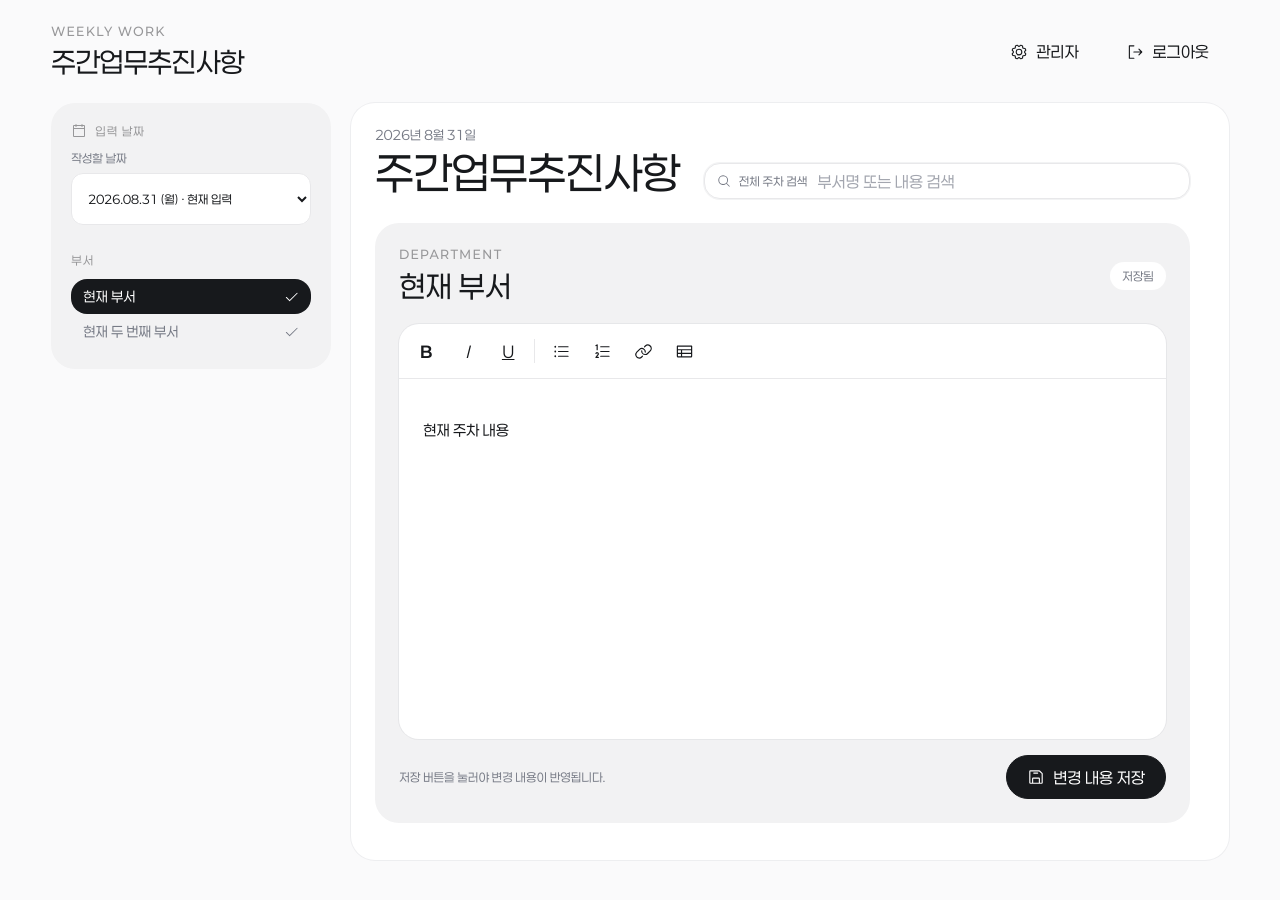
Workspace › Given an archive result contains rich text, when the contributor chooses replace, then sanitized source content replaces the current draft
The width and height of the screenshot is (1280, 900).
In the dropdown labelled "전체 주차 검색": point(996, 181) left=815, top=170, right=1177, bottom=192, type "강조"
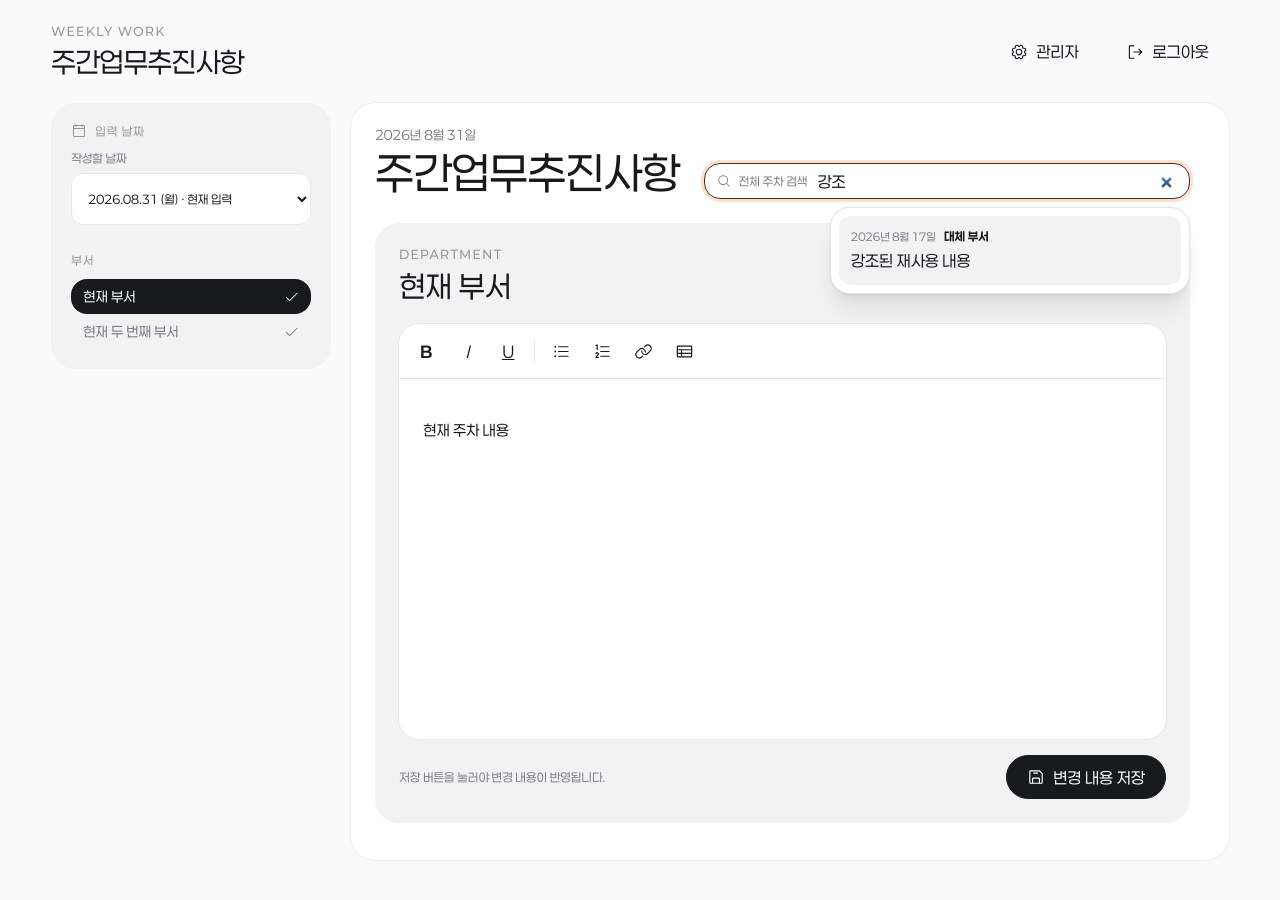
Click the option "2026년 8월 17일 대체 부서 강조된 재사용 내용": point(893, 236) left=839, top=216, right=1181, bottom=285
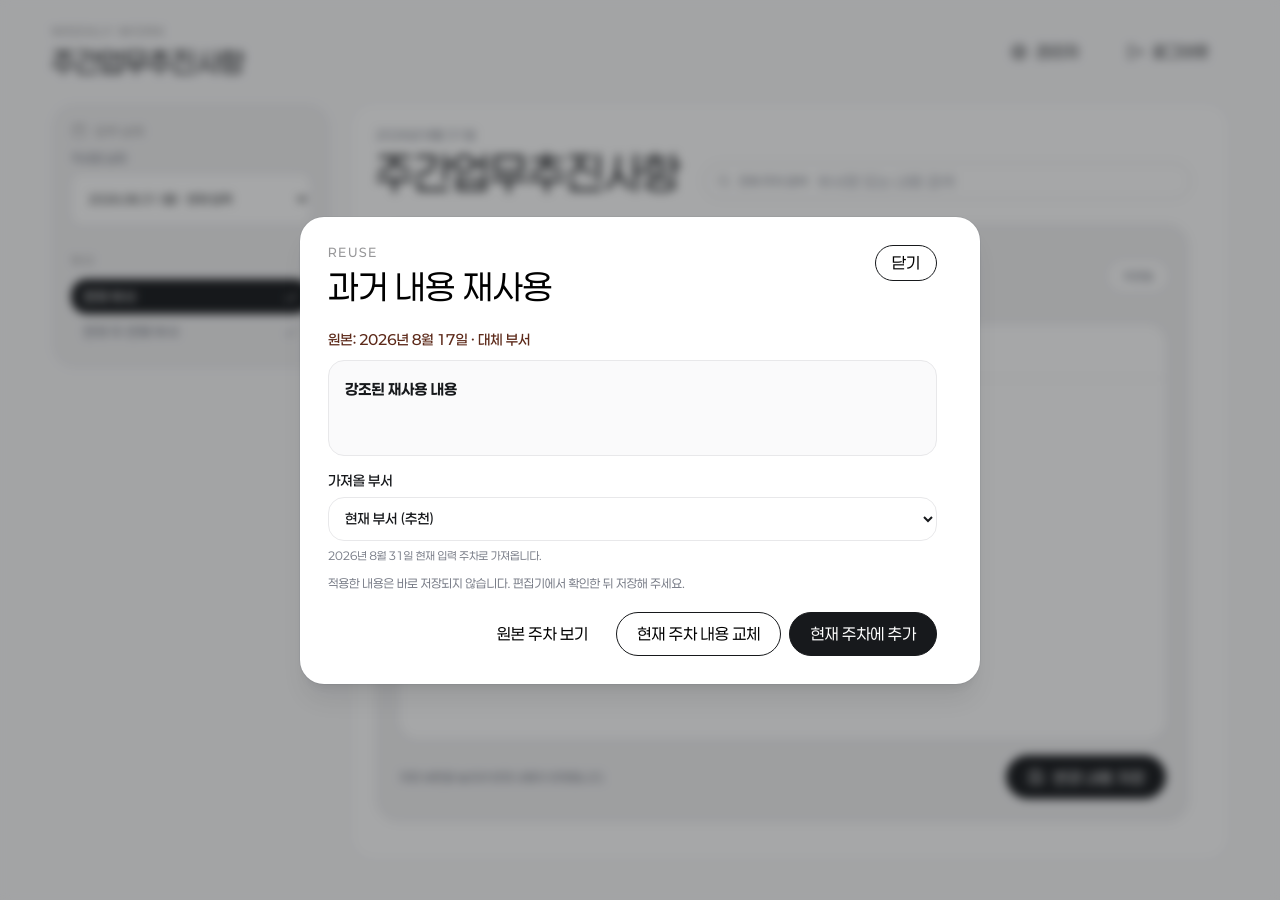
Click the button "현재 주차 내용 교체": point(699, 634) left=616, top=612, right=781, bottom=656
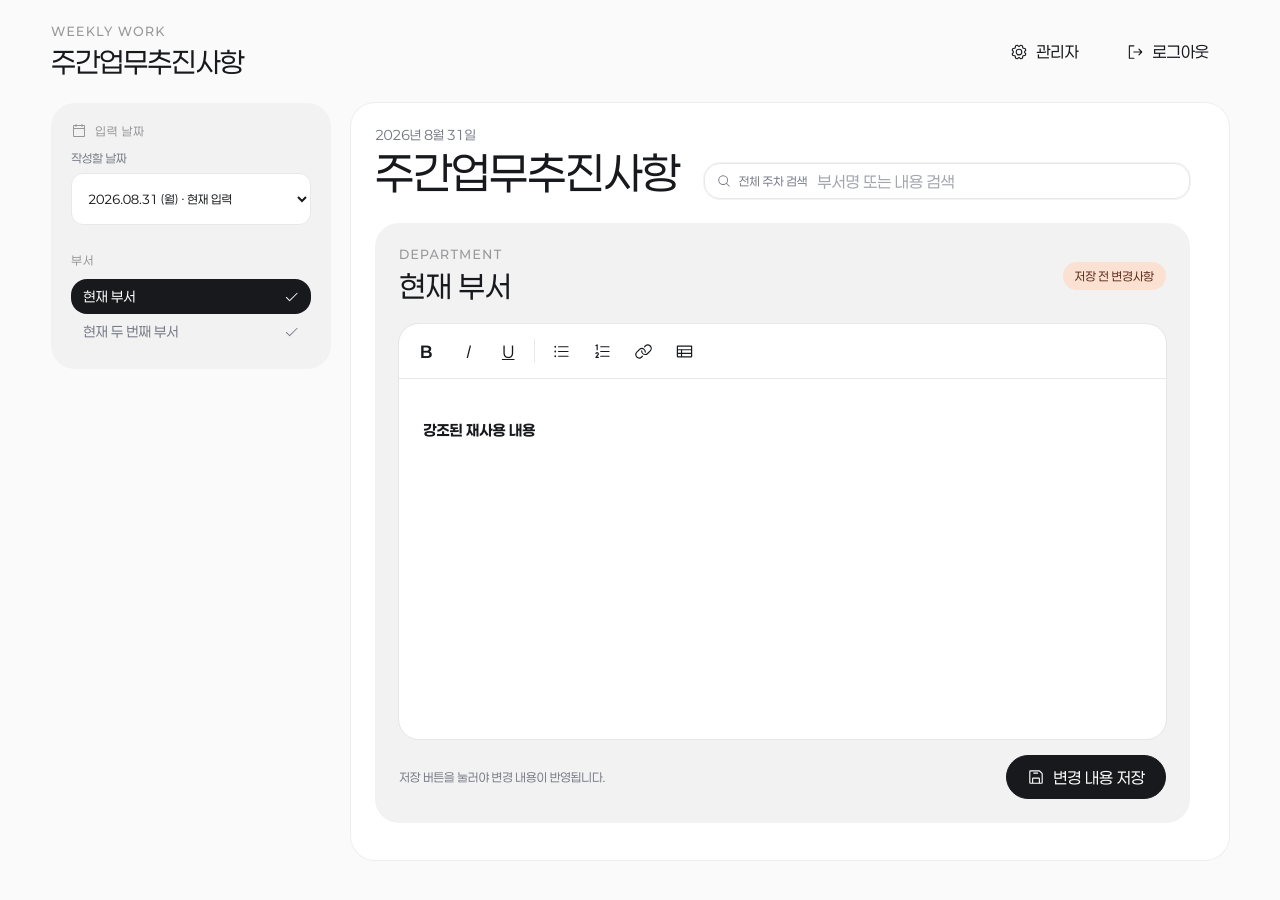
Expected: the text box labelled "강조된 재사용 내용" is shown, left=423, top=421, right=535, bottom=439
Expected: the field named "업무 내용" reads "강조된 재사용 내용", left=423, top=421, right=535, bottom=439
Expected: the field named "업무 내용" no longer shows "현재 주차 내용", left=423, top=421, right=535, bottom=439
